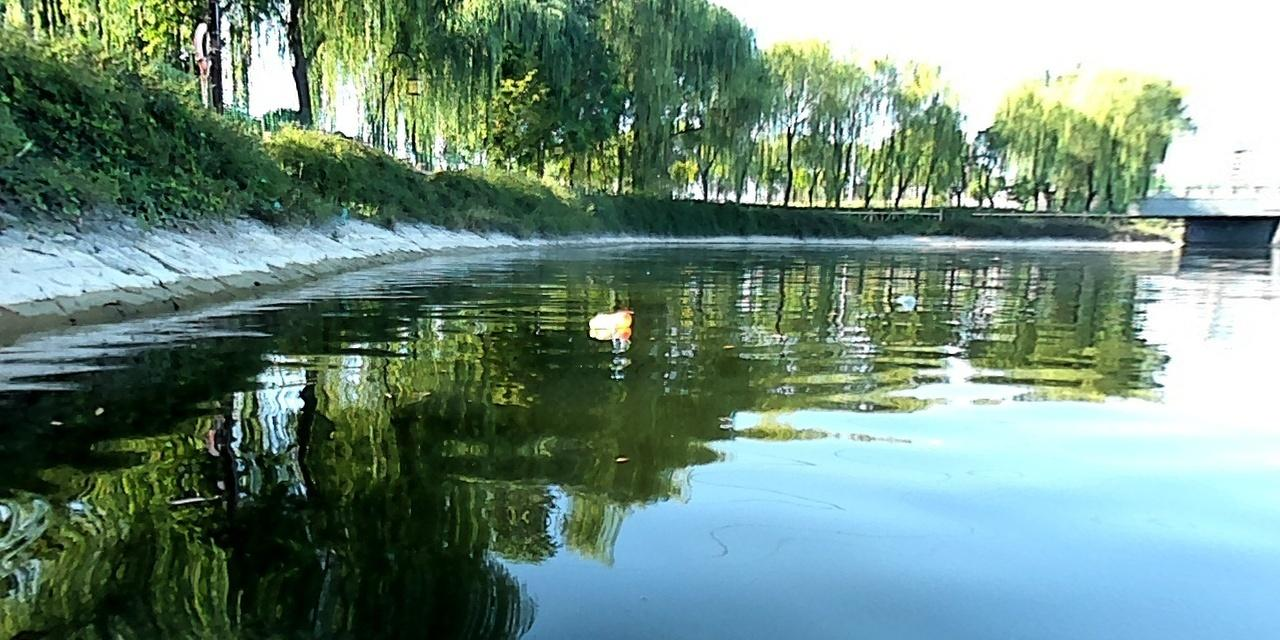bottle: (580, 308, 637, 332)
